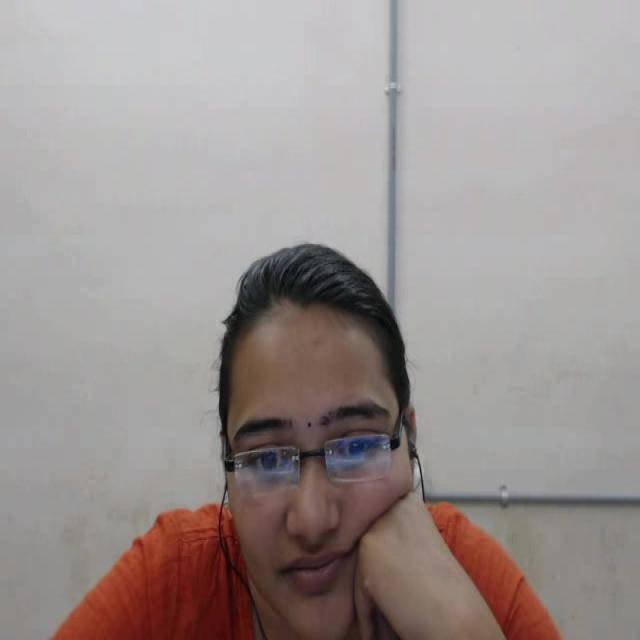Bored: (169, 215, 458, 640)
